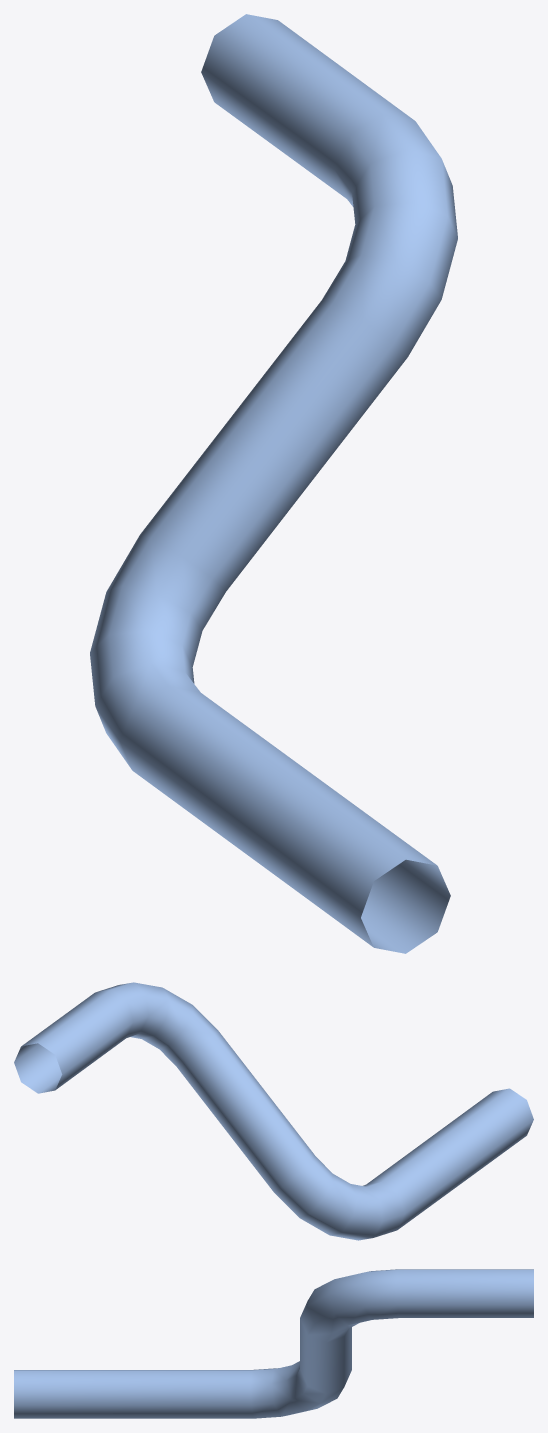
File: PipeSmall_BentSpecial_03.fbx
3 views of the same model, one above another, from view 1: azimuth 30°, elevation 25°; view 2: azimuth 150°, elevation 25°; view 3: azimuth 270°, elevation 25° (orthographic). The views are drawn at different scales.
Visible parts, largest first — view 1: PipeSmall_BentSpecial_03.001; view 2: PipeSmall_BentSpecial_03.001; view 3: PipeSmall_BentSpecial_03.001.
Part boxes in pixels (box(x1,y1,x2,y2)): PipeSmall_BentSpecial_03.001: box(90, 14, 457, 953); PipeSmall_BentSpecial_03.001: box(14, 982, 533, 1240); PipeSmall_BentSpecial_03.001: box(14, 1269, 533, 1418).
Bounding box in the file's own units: 0.5 × 0.5 × 1.
